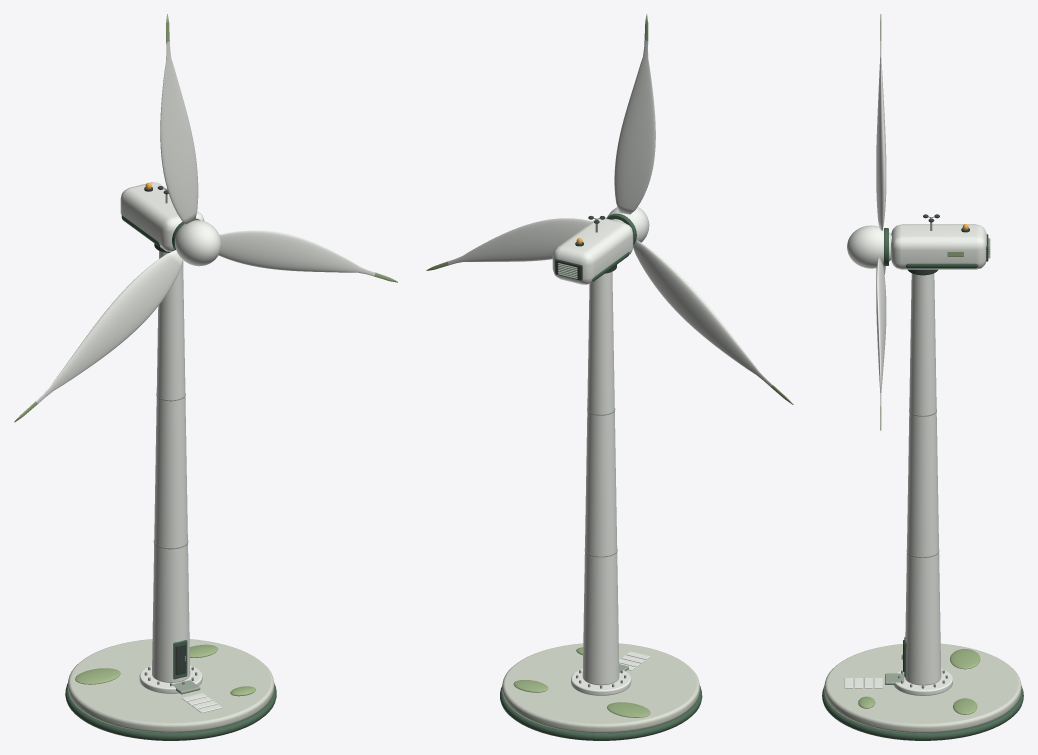
The model's file is windcast-turbine.glb.
The picture shows the model from 3 angles, left to right: view 1: azimuth 30°, elevation 25°; view 2: azimuth 150°, elevation 25°; view 3: azimuth 270°, elevation 25°; orthographic projection. The views are drawn at different scales.
Visible parts, largest first — view 1: Tower | tapered shell, Foundation | limestone deck, Blade_03, Blade_01, Blade_02, Nacelle | aerodynamic housing, Foundation | olive floating edge, Rotor | sculpted spinner, Tower | anchor flange; view 2: Tower | tapered shell, Foundation | limestone deck, Blade_01, Blade_03, Blade_02, Nacelle | aerodynamic housing, Foundation | olive floating edge, Tower | anchor flange; view 3: Tower | tapered shell, Foundation | limestone deck, Nacelle | aerodynamic housing, Foundation | olive floating edge, Blade_01, Rotor | sculpted spinner, Blade_02, Tower | anchor flange, Landscape | planting mound 0, Nacelle | lower olive belt.
Boxes of the visible parts, x1,y1,x2,y2 form: Tower | tapered shell: (152, 251, 190, 682); Foundation | limestone deck: (68, 639, 274, 732); Blade_03: (14, 250, 182, 422); Blade_01: (160, 14, 198, 224); Blade_02: (218, 230, 397, 282); Nacelle | aerodynamic housing: (120, 182, 204, 251); Foundation | olive floating edge: (65, 683, 276, 740); Rotor | sculpted spinner: (175, 220, 221, 266); Tower | anchor flange: (139, 665, 202, 693); Tower | tapered shell: (582, 272, 619, 685); Foundation | limestone deck: (502, 643, 699, 733); Blade_01: (614, 14, 655, 214); Blade_03: (633, 240, 793, 404); Blade_02: (426, 218, 592, 270); Nacelle | aerodynamic housing: (552, 218, 633, 284); Foundation | olive floating edge: (500, 685, 702, 740); Tower | anchor flange: (571, 668, 631, 695); Tower | tapered shell: (904, 273, 941, 685); Foundation | limestone deck: (824, 643, 1021, 733); Nacelle | aerodynamic housing: (891, 224, 986, 269); Foundation | olive floating edge: (822, 685, 1023, 740); Blade_01: (876, 14, 886, 230); Rotor | sculpted spinner: (847, 225, 891, 268); Blade_02: (876, 257, 886, 430); Tower | anchor flange: (893, 668, 952, 695); Landscape | planting mound 0: (950, 649, 980, 669); Nacelle | lower olive belt: (906, 263, 977, 268).
Size of the model in its own units: 9.01 by 15.84 by 4.3.
